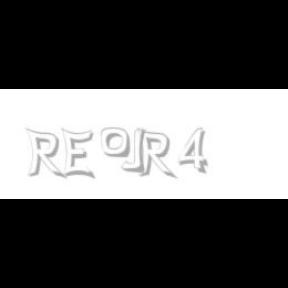4: (178, 128, 208, 174)
E: (62, 128, 94, 180)
J: (120, 128, 146, 172)
R: (25, 128, 63, 180), (136, 128, 174, 180)
o: (101, 128, 130, 158)
